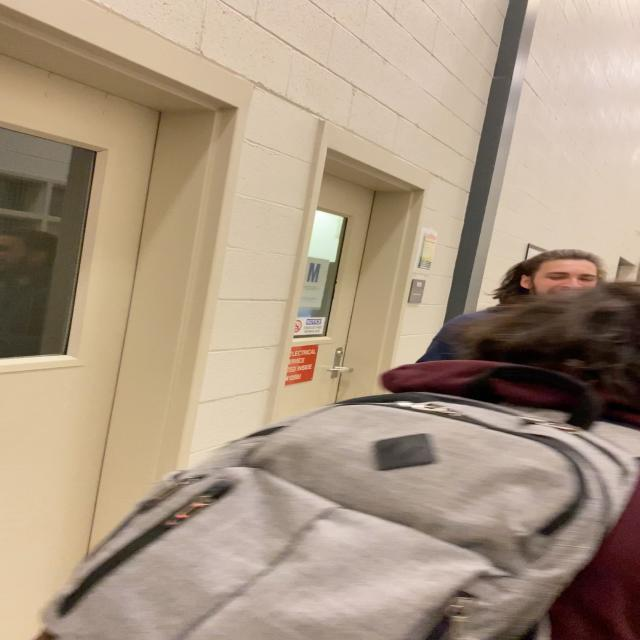Backpacks: (37, 392, 640, 640)
